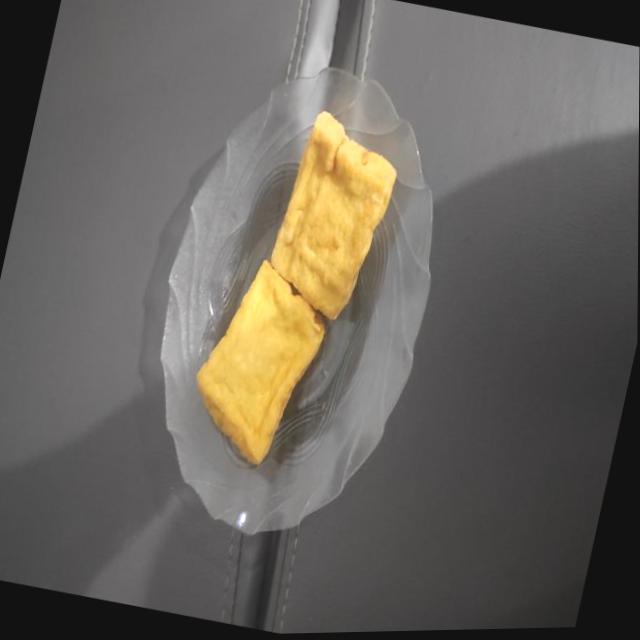tahu_goreng: (270, 111, 396, 319), (197, 260, 324, 465)
